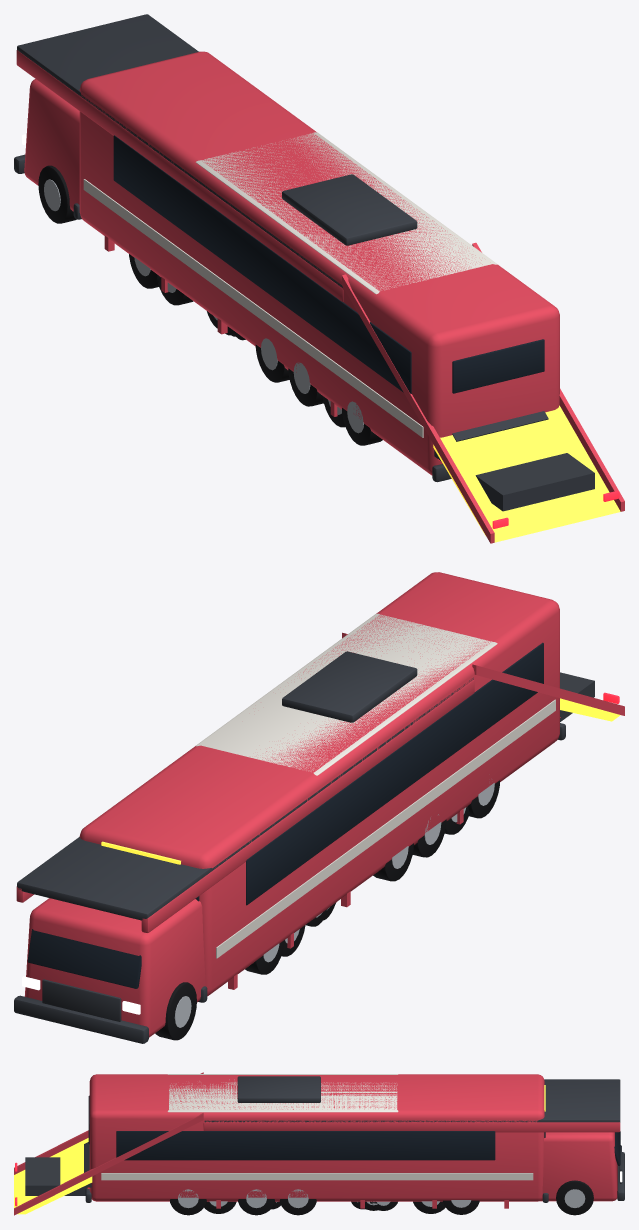
File: traffic.glb
3 views of the same model, one above another, from view 1: azimuth 30°, elevation 25°; view 2: azimuth 150°, elevation 25°; view 3: azimuth 270°, elevation 25° (orthographic). The views are drawn at different scales.
Visible parts, largest first — view 1: bus, carrier, boxtruck; view 2: bus, carrier, boxtruck; view 3: bus, carrier, boxtruck.
Part boxes in pixels (bbox=[...]): bus: bbox=[73, 51, 559, 482]; carrier: bbox=[14, 14, 624, 543]; boxtruck: bbox=[158, 132, 497, 427]; bus: bbox=[79, 572, 565, 1002]; carrier: bbox=[14, 632, 624, 1043]; boxtruck: bbox=[196, 613, 497, 956]; bus: bbox=[85, 1074, 548, 1214]; carrier: bbox=[14, 1072, 624, 1215]; boxtruck: bbox=[167, 1074, 445, 1213].
Bounding box in the file's own units: 2.61 × 3.16 × 16.12.
